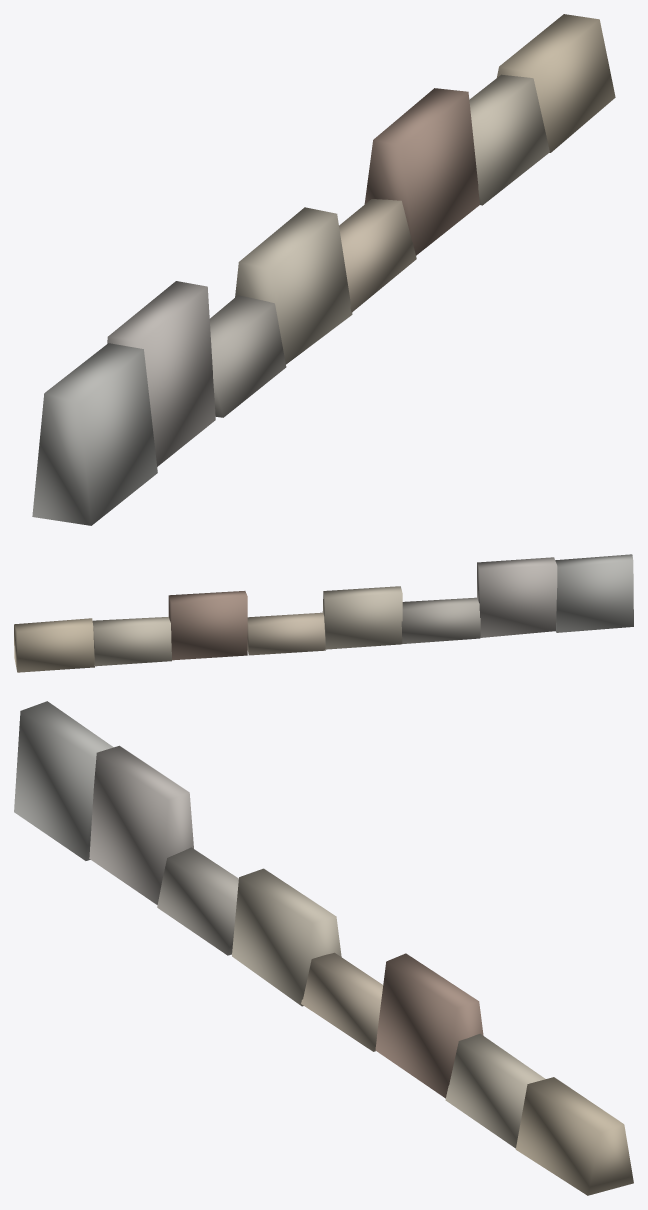
The model's file is farm_14_12_far.glb.
3 views of the same model, one above another, from view 1: azimuth 30°, elevation 25°; view 2: azimuth 150°, elevation 25°; view 3: azimuth 270°, elevation 25° (orthographic). The views are drawn at different scales.
Visible parts, largest first — view 1: geometry_0; view 2: geometry_0; view 3: geometry_0.
Part boxes in pixels (x1=…): geometry_0: x1=32, y1=14, x2=615, y2=525; geometry_0: x1=14, y1=554, x2=633, y2=672; geometry_0: x1=14, y1=701, x2=633, y2=1195.
Bounding box in the file's own units: 10.81 × 1.93 × 7.86.
